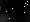person: (1, 4, 3, 15)
